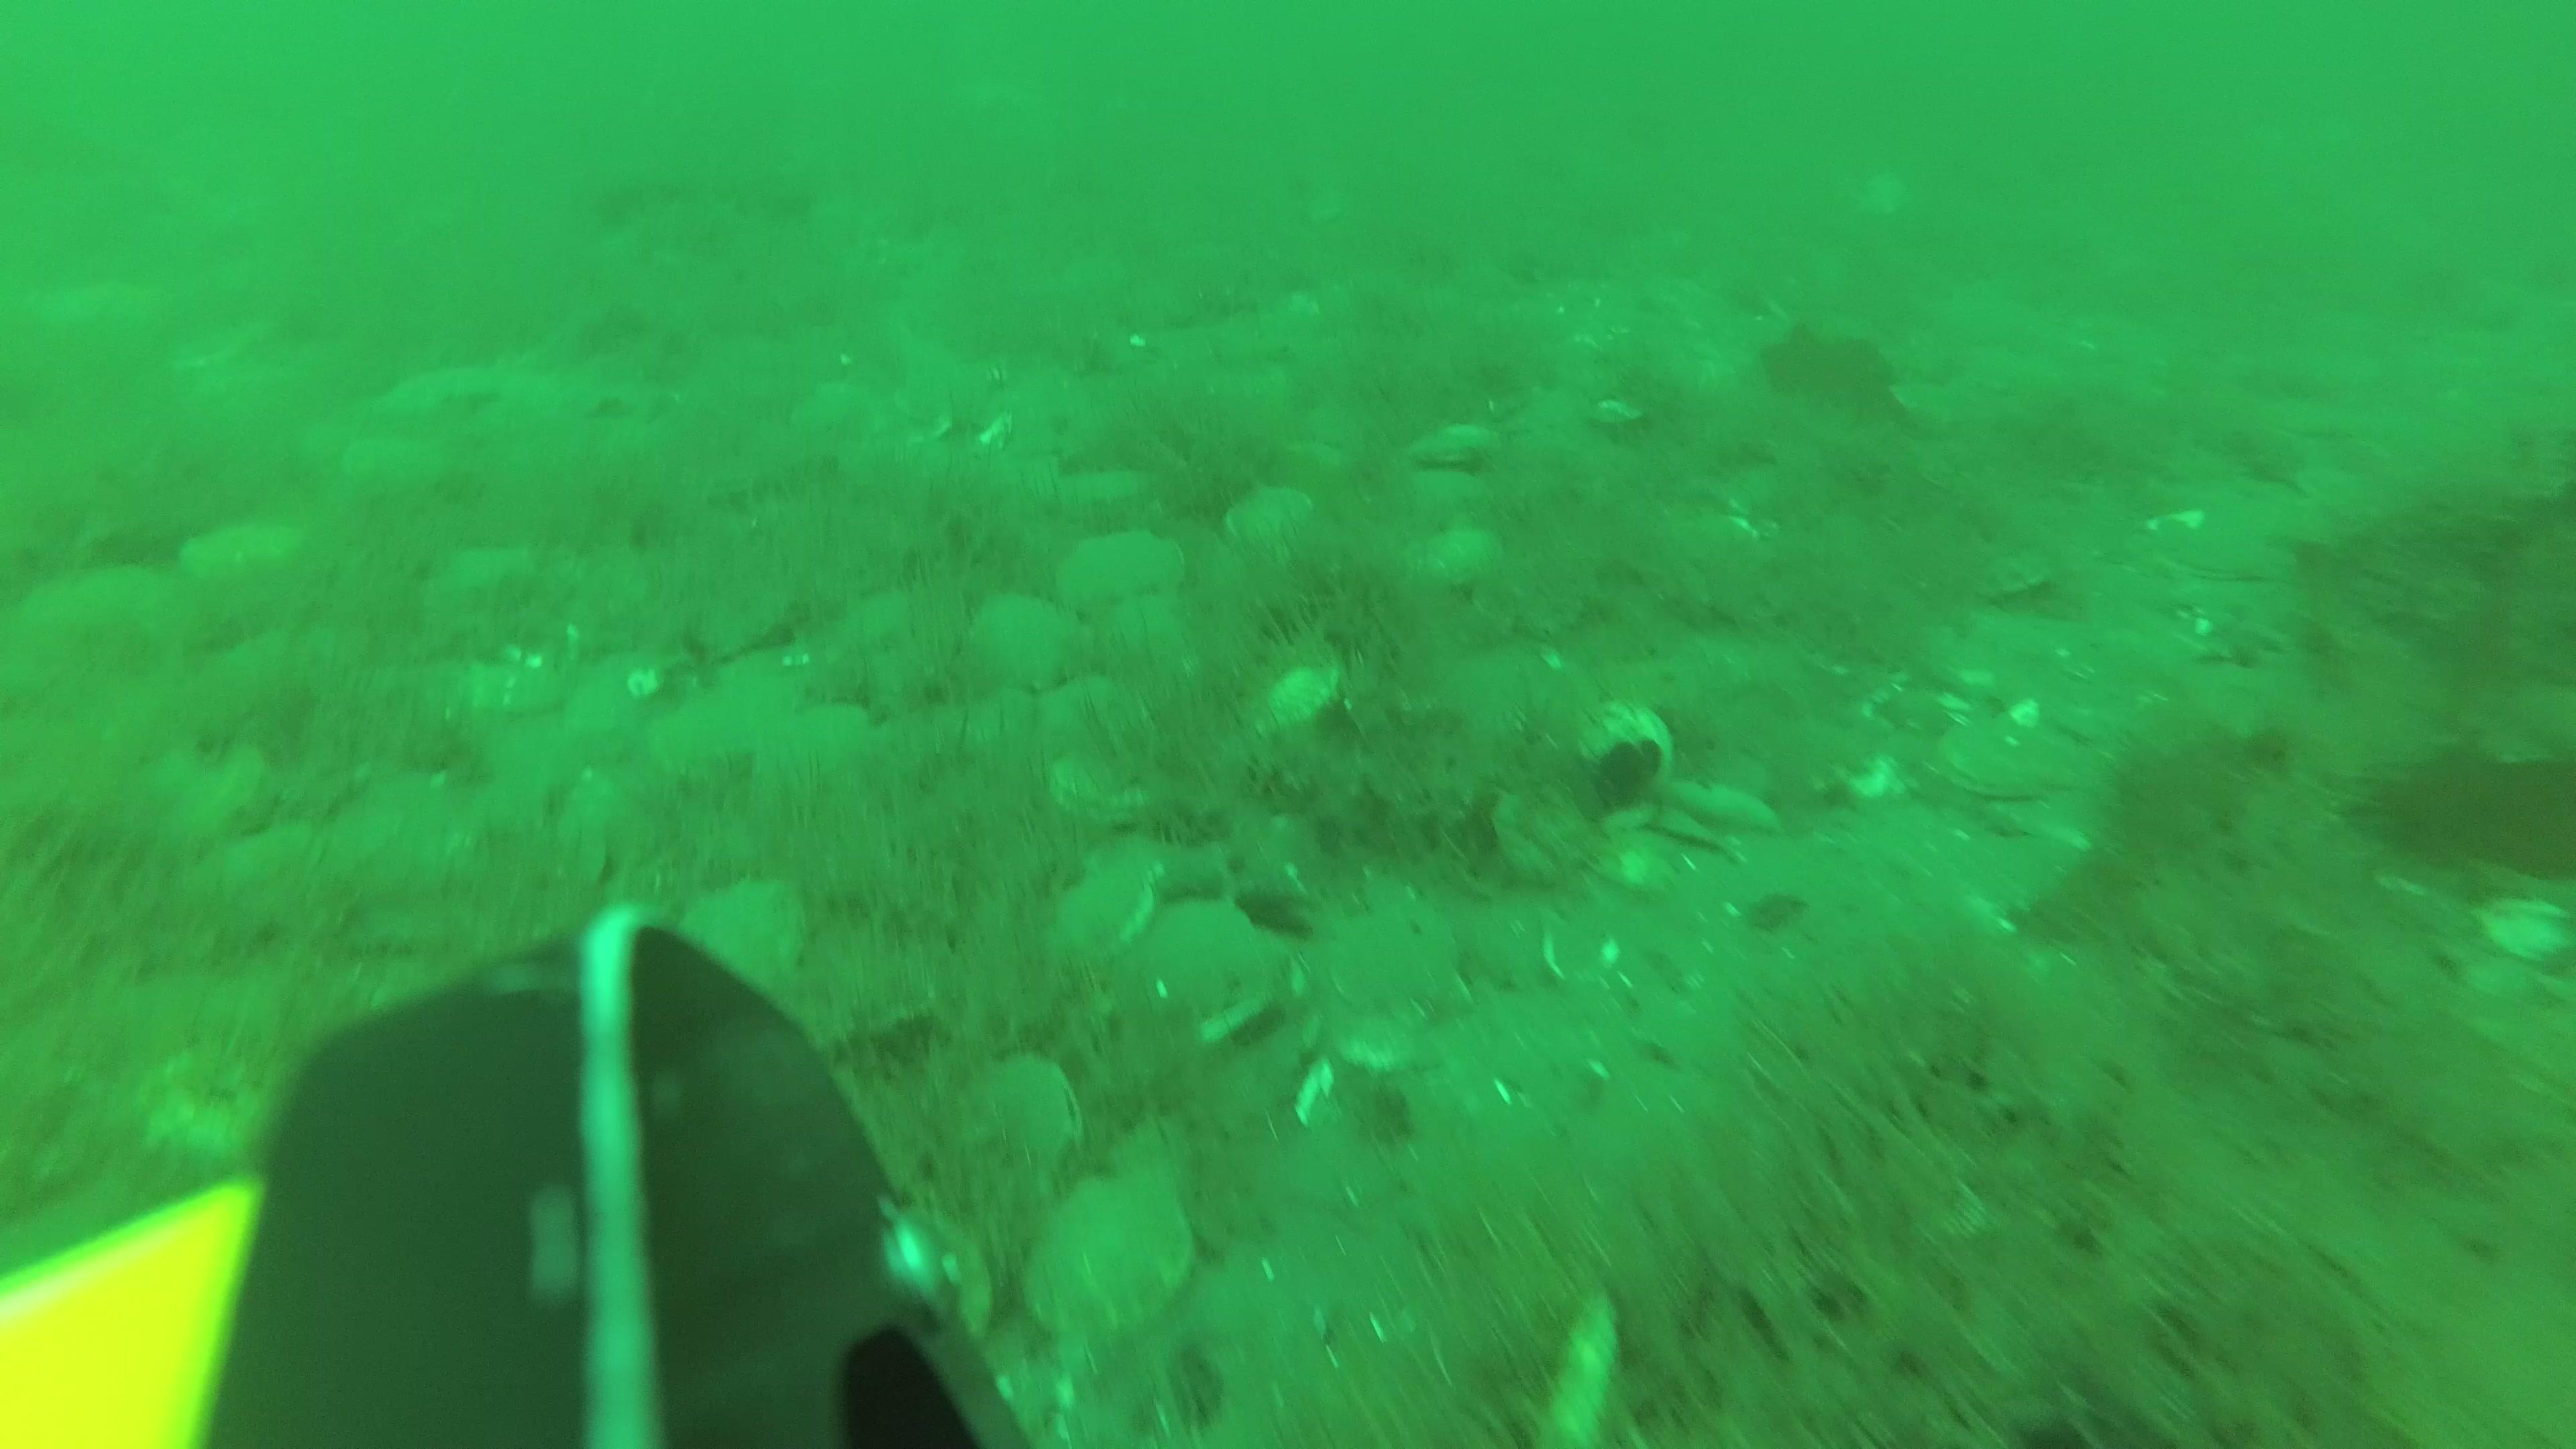scallop: (1031, 1182, 1191, 1338), (1322, 895, 1470, 1042), (1122, 911, 1272, 1042), (1047, 860, 1173, 980), (658, 672, 801, 773), (681, 865, 809, 977), (975, 1047, 1074, 1180), (1936, 715, 2059, 805), (1039, 676, 1161, 764), (764, 694, 870, 794), (970, 589, 1090, 676), (1246, 640, 1352, 736), (186, 518, 315, 596), (1049, 748, 1155, 839), (1062, 533, 1178, 612), (902, 356, 1005, 425), (1403, 524, 1516, 580), (1417, 409, 1502, 483), (796, 375, 885, 446), (1219, 485, 1311, 545)
